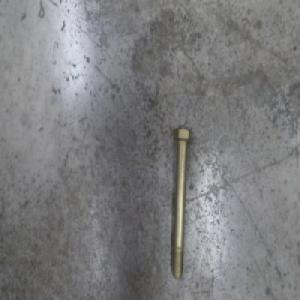Bolt: (170, 125, 192, 281)
